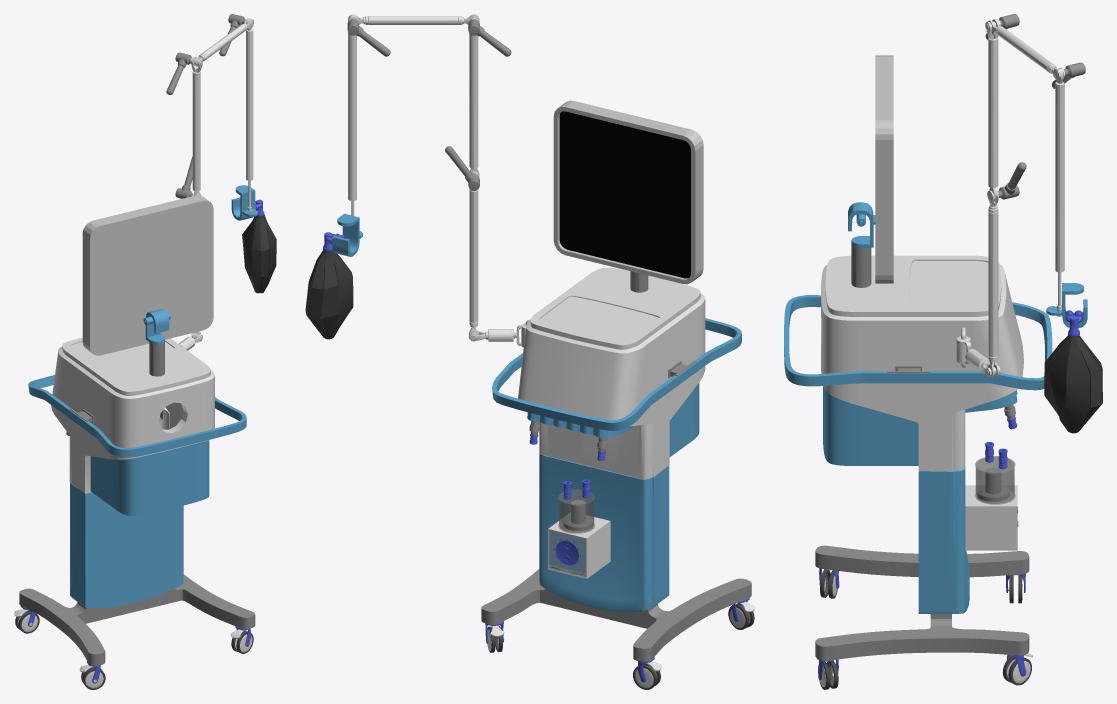
File: ventilator.fbx
The picture shows the model from 3 angles, left to right: view 1: azimuth 30°, elevation 25°; view 2: azimuth 150°, elevation 25°; view 3: azimuth 270°, elevation 25°; orthographic projection. The views are drawn at different scales.
Visible parts, largest first — view 1: ventilator screen002; view 2: ventilator screen002; view 3: ventilator screen002.
Boxes of the visible parts, left/top/right/bottom form: ventilator screen002: left=14, top=14, right=276, bottom=689; ventilator screen002: left=305, top=14, right=755, bottom=689; ventilator screen002: left=784, top=14, right=1102, bottom=689.
Size of the model in its own units: 108 by 192 by 81.77.
